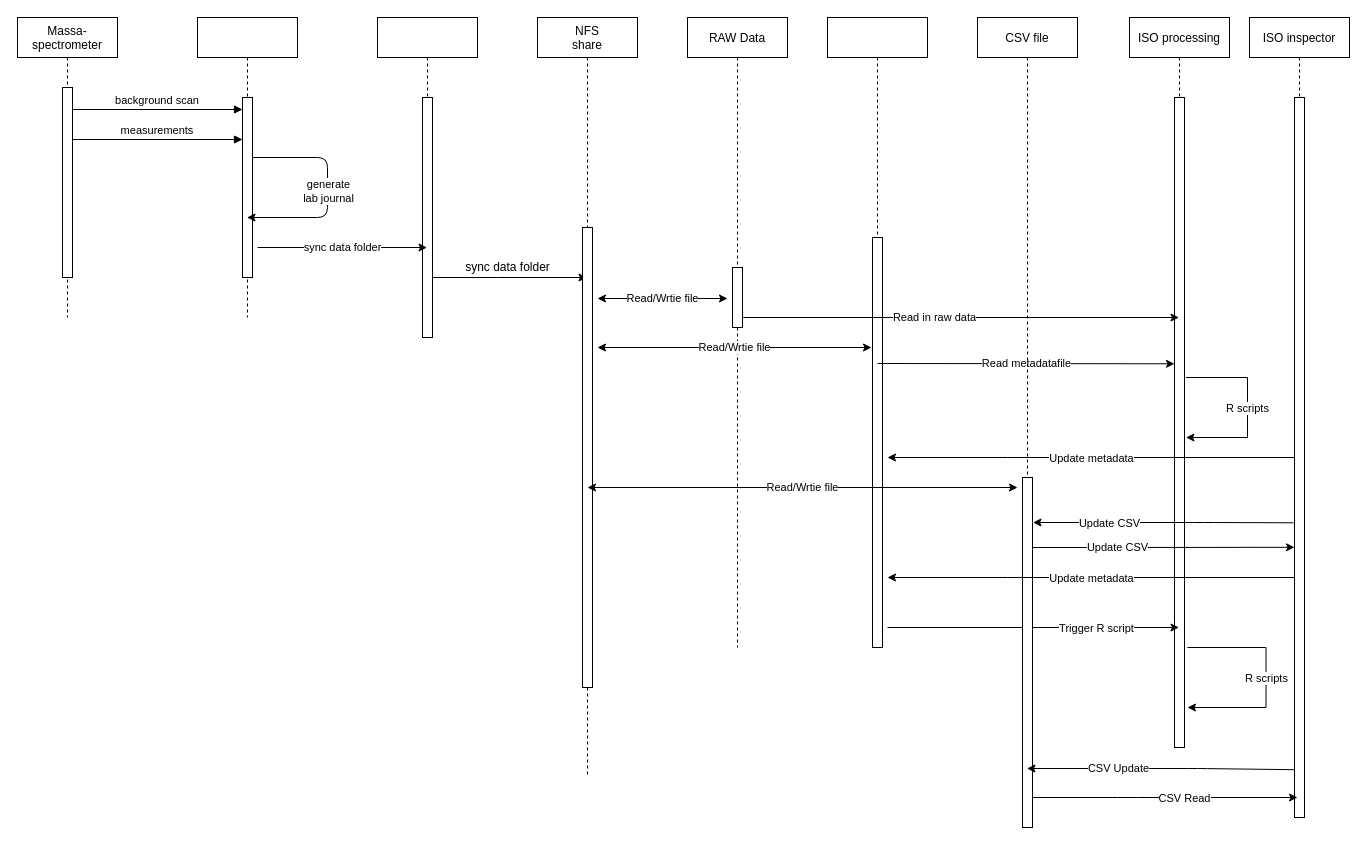
This 1367x845 diagram has some shape labels left out. Here are the shapes that lost their labels. From the top down, the box of each, then its label:
(196, 16, 298, 318): Lab Computer
(376, 16, 478, 338): GML raw data share
(826, 16, 928, 648): Metadata
